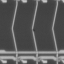dust: (32, 28, 36, 33)
